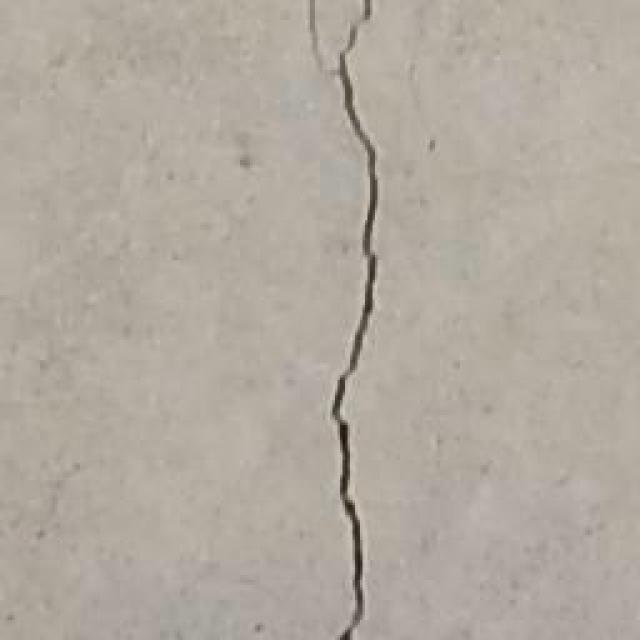concrete-crack: (310, 0, 380, 638)
